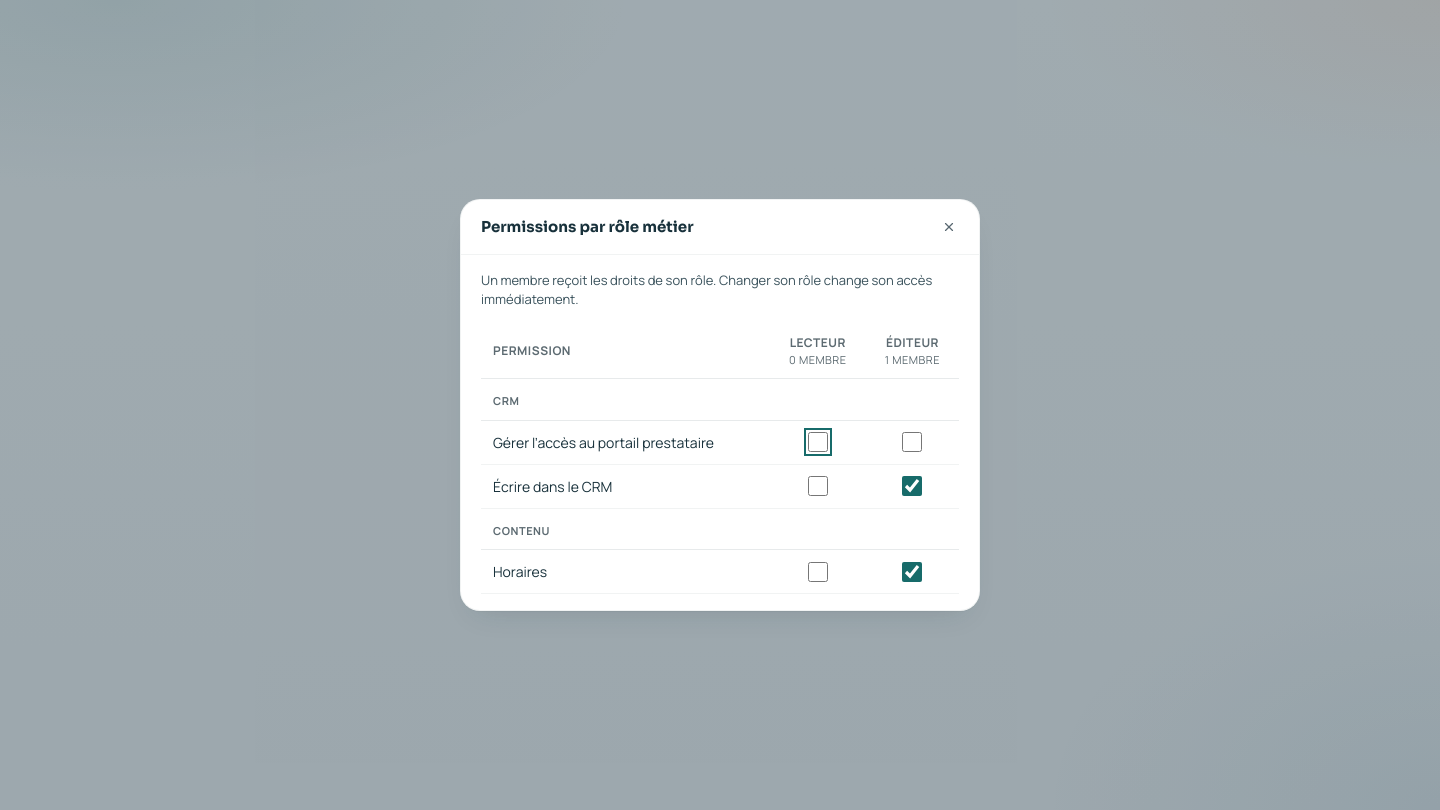
Scenario: OrgRolePermissionsModal › avertit qu’une exception individuelle survit au retrait
The width and height of the screenshot is (1440, 810).
Click the checkbox named "Écrire dans le CRM — Éditeur".
click(912, 486)  # box [902, 476, 922, 496]
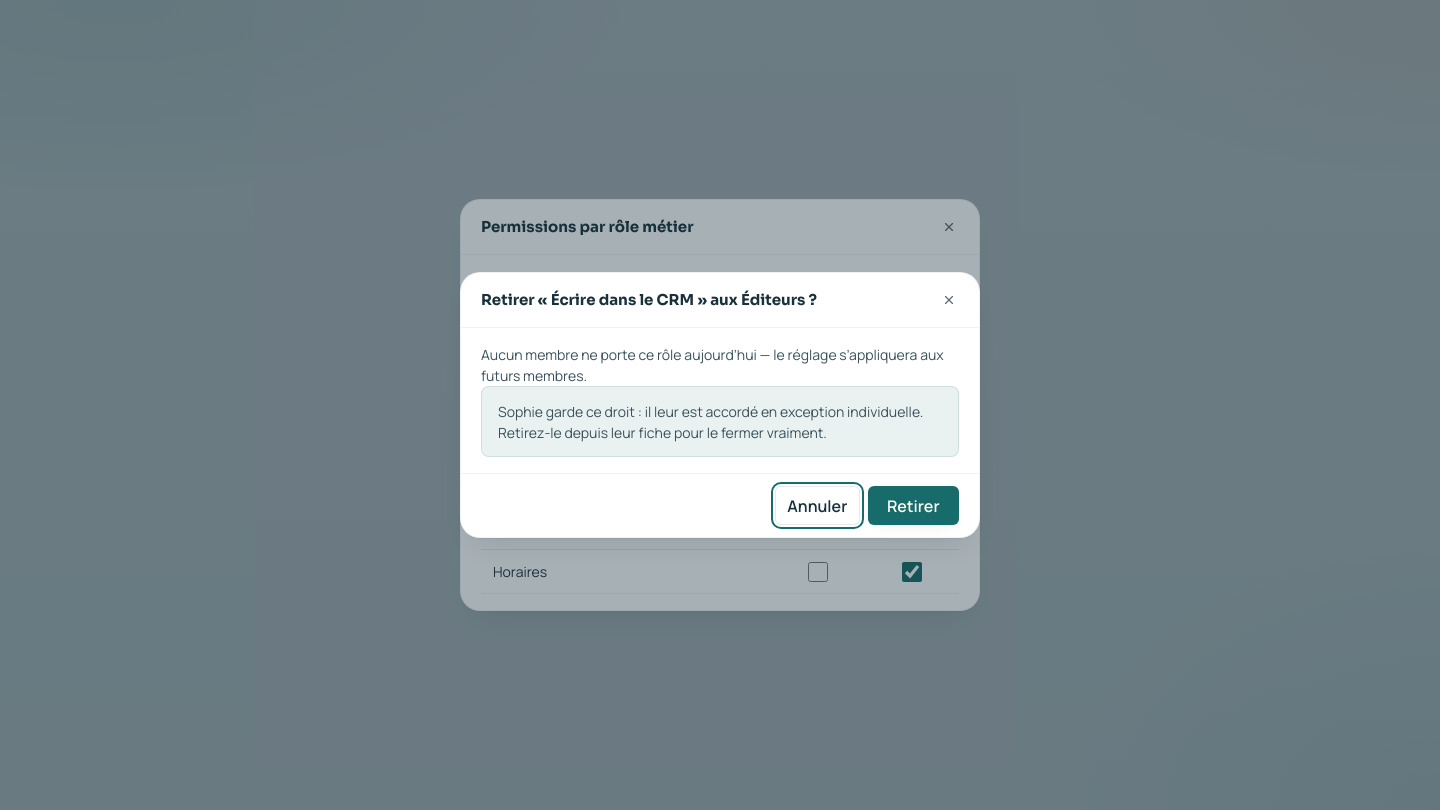
Check: the text "Sophie garde ce droit" is shown, box [481, 386, 959, 457]
